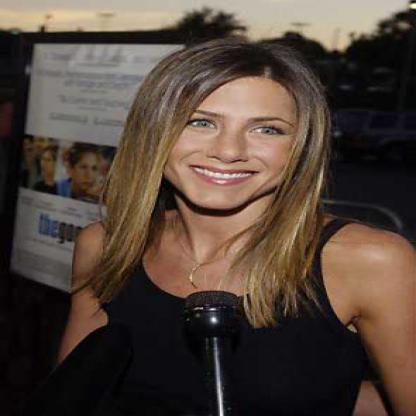face: (154, 45, 312, 212)
